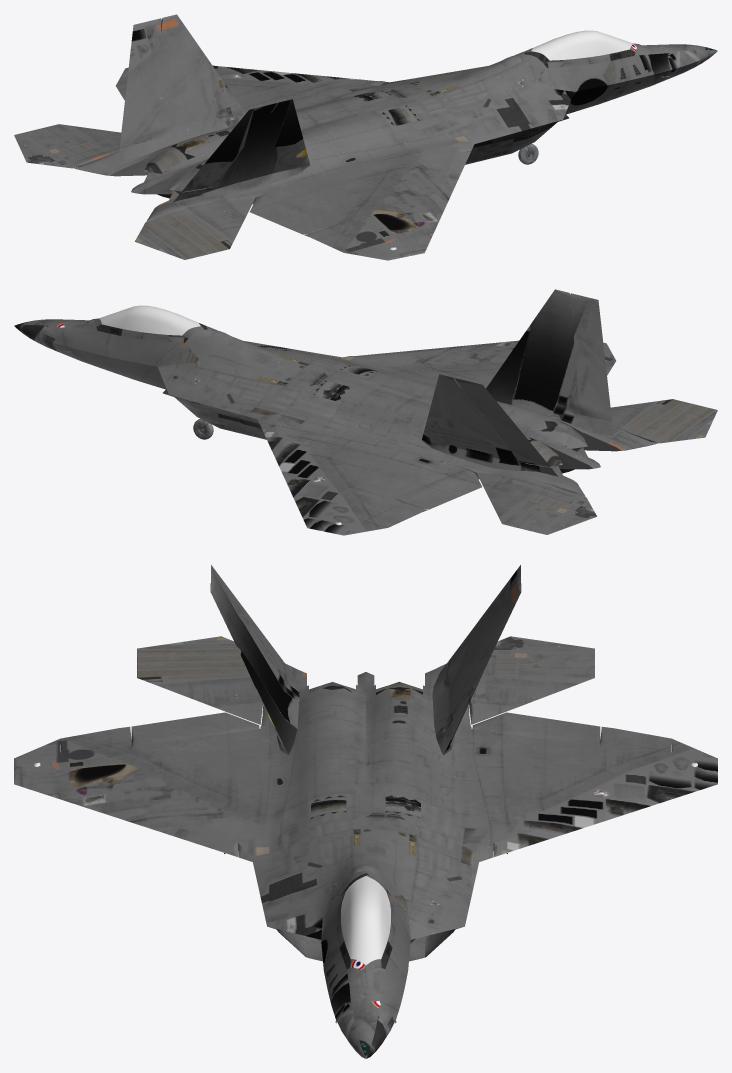
The model's file is F22Raptor.fbx.
The picture shows the model from 3 angles, top to bottom: view 1: azimuth 30°, elevation 25°; view 2: azimuth 150°, elevation 25°; view 3: azimuth 270°, elevation 25°; orthographic projection. The views are drawn at different scales.
Visible parts, largest first — view 1: F-22-airframe, F-22-canopy; view 2: F-22-airframe, F-22-canopy; view 3: F-22-airframe, F-22-canopy.
Boxes of the visible parts, x1=… form: F-22-airframe: x1=14, y1=14, x2=717, y2=260; F-22-canopy: x1=531, y1=30, x2=632, y2=60; F-22-airframe: x1=14, y1=289, x2=717, y2=535; F-22-canopy: x1=99, y1=305, x2=200, y2=335; F-22-airframe: x1=14, y1=565, x2=717, y2=1058; F-22-canopy: x1=341, y1=876, x2=390, y2=964.
Size of the model in its own units: 18995 by 5189 by 13561.
